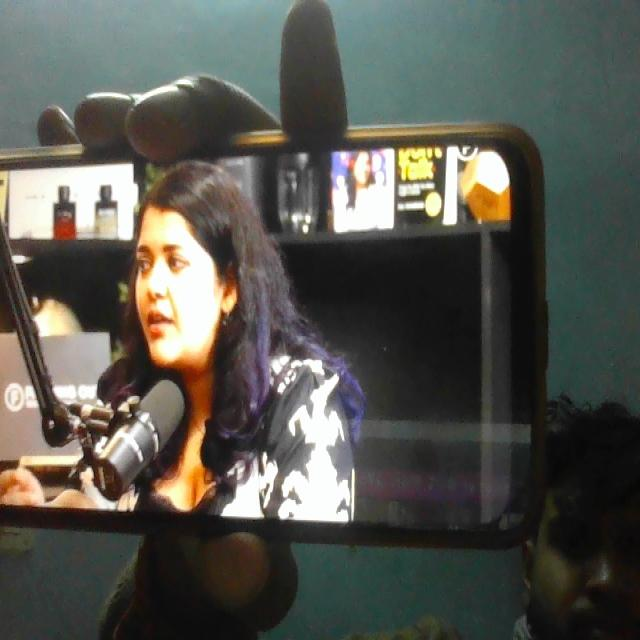fake: (118, 130, 247, 373)
